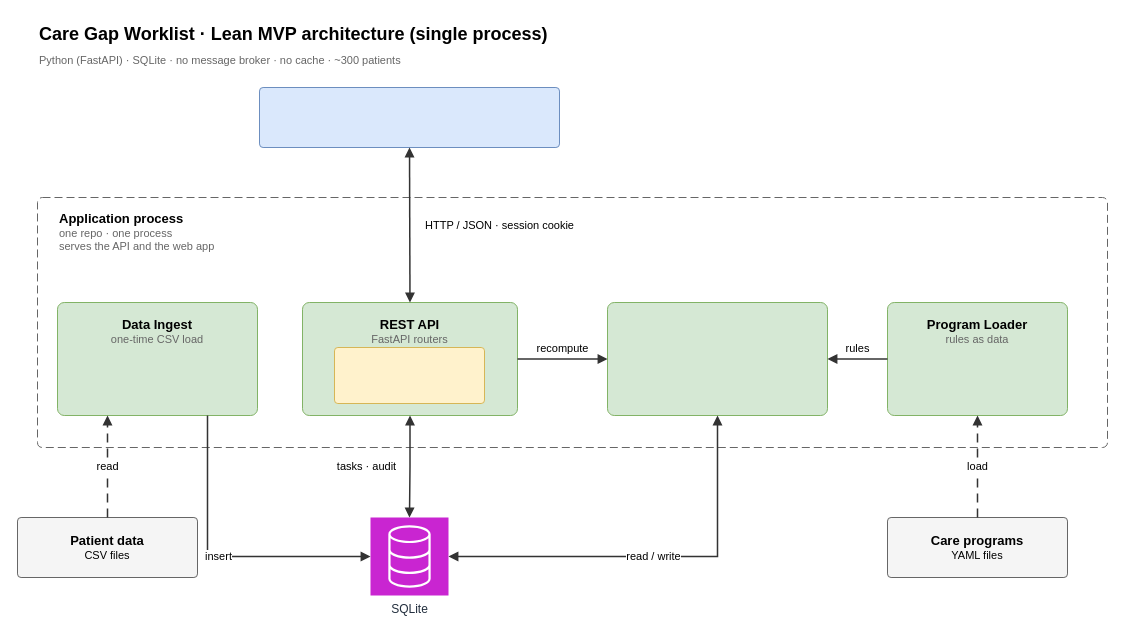
The diagram is 1125 pixels wide and 633 high, and some of its shapes have lost their labels. The centre of each missing label's shape, as x and y in pixels:
"Auth signed cookie · roles" belongs at point 409,375.
"Care Gap Engine evaluate · full recompute" belongs at point 717,359.
"Web app (static HTML / JS) Front desk view · Clinical team view" belongs at point 409,117.
